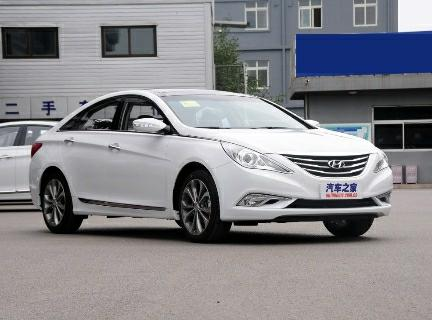car: (19, 86, 403, 252)
